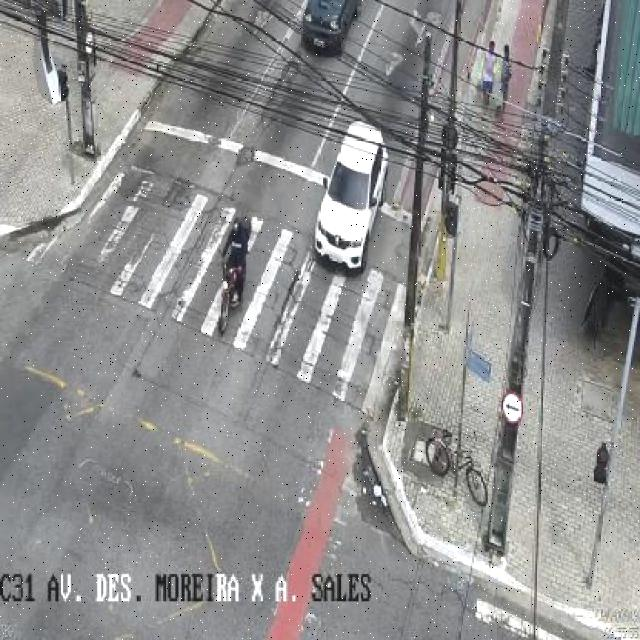bicycle: (424, 422, 488, 512)
car: (312, 116, 386, 276), (300, 1, 362, 54)
motorbike: (218, 218, 251, 340), (498, 42, 514, 121), (479, 40, 495, 111)
